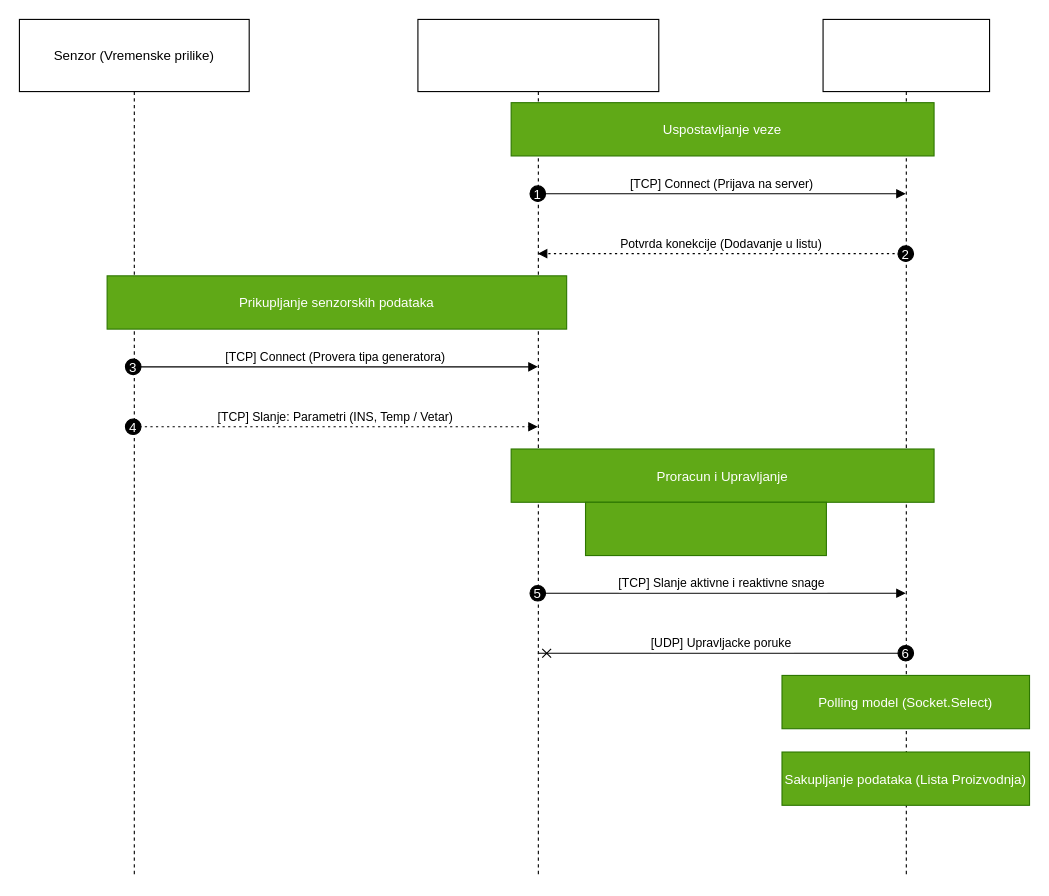
Some shapes in this 1049 by 896 pixel diagram are drawn without their labels. The box of each missing label's shape, as (x1, y1, x2, y2) in pixels:
DER Generator (Solar/Vetro): (417, 18, 659, 876)
Dispecerski Server: (822, 18, 990, 876)
Proracun P i Q snage: (584, 501, 826, 556)
